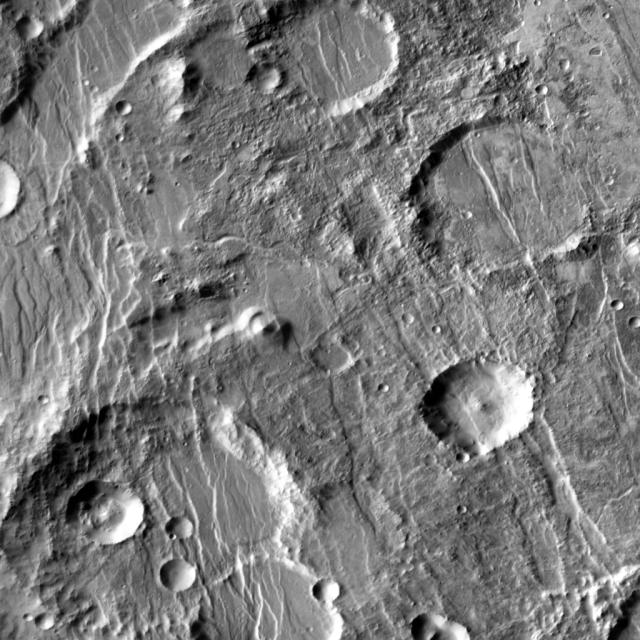crater: (10, 404, 305, 640), (410, 122, 599, 288), (258, 0, 404, 121), (275, 488, 415, 610), (200, 565, 346, 640), (429, 358, 540, 456), (65, 485, 142, 553), (419, 615, 472, 640), (164, 564, 202, 596), (320, 344, 356, 376), (253, 66, 288, 96), (19, 16, 49, 42), (319, 581, 347, 605), (172, 522, 199, 544), (40, 616, 61, 634), (118, 102, 138, 119), (176, 0, 198, 11), (157, 77, 171, 89), (616, 303, 629, 315), (564, 62, 576, 74), (464, 454, 476, 466), (500, 98, 512, 109), (430, 458, 442, 469), (542, 87, 553, 97), (409, 316, 419, 326), (385, 385, 396, 394), (463, 508, 473, 517), (44, 398, 54, 407), (438, 328, 448, 336), (29, 616, 39, 624), (469, 214, 478, 222), (610, 179, 619, 187), (120, 136, 129, 143), (237, 144, 245, 151), (158, 139, 166, 146), (382, 351, 390, 358), (629, 316, 634, 326), (80, 74, 88, 80), (89, 81, 96, 87), (533, 0, 541, 1)
